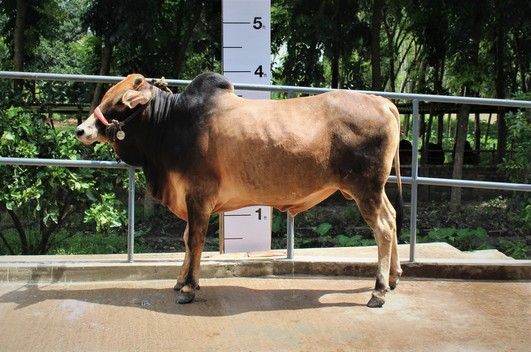cow: (72, 66, 412, 315)
